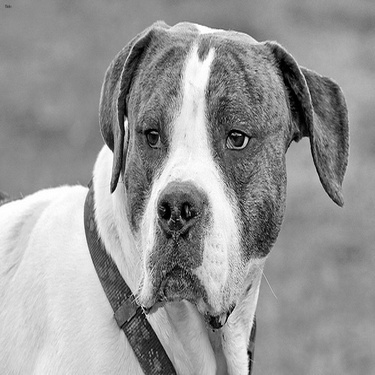dog: (7, 15, 355, 373)
